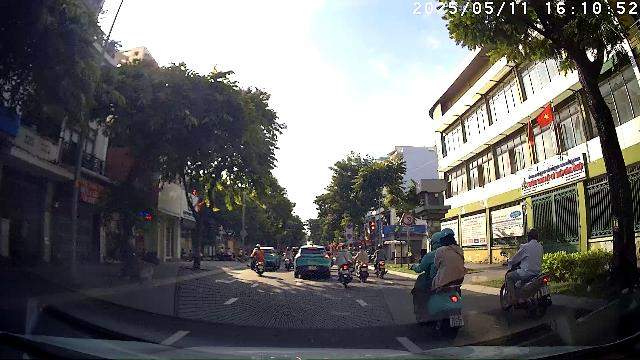103c-cam-oto-re-trai: (402, 213, 415, 226)
